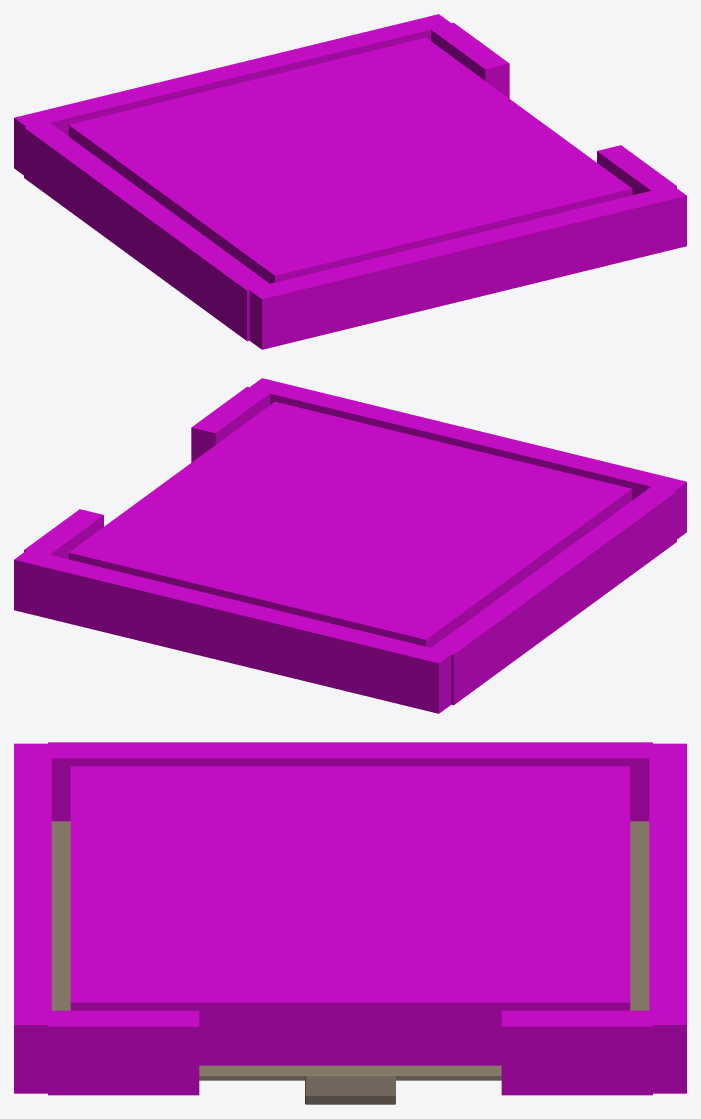
The model's file is ENV_Tank_Stepped_A.glb.
The picture shows the model from 3 angles, top to bottom: view 1: azimuth 30°, elevation 25°; view 2: azimuth 150°, elevation 25°; view 3: azimuth 270°, elevation 25°; orthographic projection. The views are drawn at different scales.
Visible parts, largest first — view 1: COL_Basin, COL_Rim_S, COL_Rim_W, COL_Rim_N, COL_Rim_E_1, COL_Rim_E_-1; view 2: COL_Basin, COL_Rim_N, COL_Rim_W, COL_Rim_S, COL_Rim_E_-1, COL_Rim_E_1; view 3: COL_Basin, COL_Rim_W, ENV_Tank_Stepped_A_Mesh, COL_Rim_E_1, COL_Rim_E_-1, COL_Rim_N, COL_Rim_S.
Boxes of the visible parts, x1=… form: COL_Basin: x1=68, y1=37, x2=632, y2=283; COL_Rim_S: x1=249, y1=185, x2=686, y2=349; COL_Rim_W: x1=24, y1=122, x2=270, y2=341; COL_Rim_N: x1=14, y1=14, x2=450, y2=175; COL_Rim_E_1: x1=430, y1=22, x2=509, y2=98; COL_Rim_E_-1: x1=597, y1=145, x2=676, y2=195; COL_Basin: x1=68, y1=401, x2=632, y2=647; COL_Rim_N: x1=14, y1=550, x2=452, y2=713; COL_Rim_W: x1=430, y1=486, x2=676, y2=705; COL_Rim_S: x1=250, y1=378, x2=686, y2=539; COL_Rim_E_-1: x1=191, y1=386, x2=270, y2=462; COL_Rim_E_1: x1=24, y1=509, x2=103, y2=559; COL_Basin: x1=70, y1=766, x2=630, y2=1065; COL_Rim_W: x1=48, y1=742, x2=652, y2=821; ENV_Tank_Stepped_A_Mesh: x1=51, y1=821, x2=649, y2=1104; COL_Rim_E_1: x1=501, y1=1010, x2=652, y2=1095; COL_Rim_E_-1: x1=48, y1=1010, x2=199, y2=1095; COL_Rim_N: x1=649, y1=743, x2=686, y2=1093; COL_Rim_S: x1=14, y1=743, x2=51, y2=1093.
Size of the model in its own units: 9.05 by 2.25 by 8.9.
